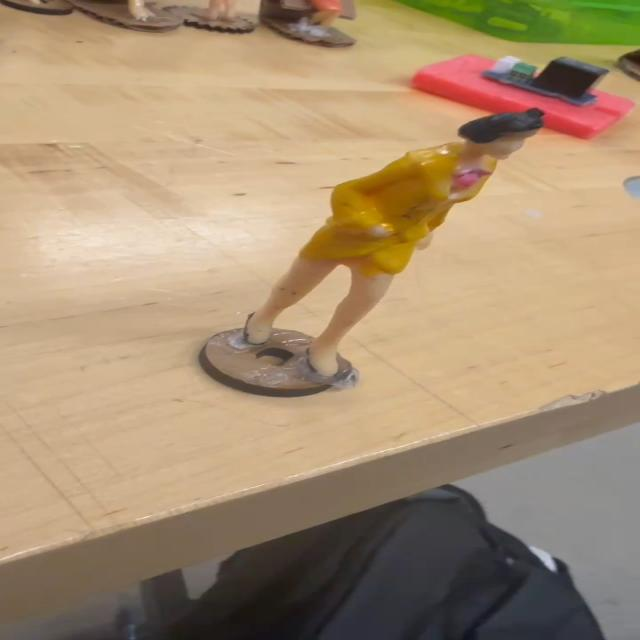Authorized: (233, 90, 541, 396)
